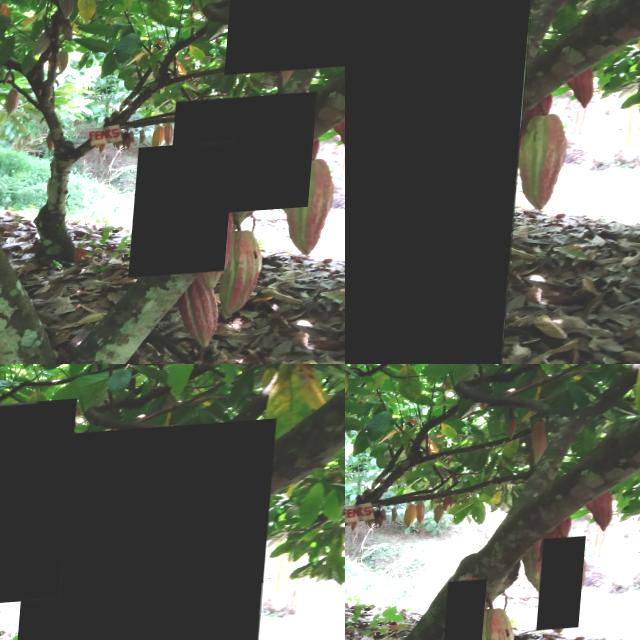Monilia: (345, 0, 544, 364), (174, 99, 322, 222)
Sana: (15, 426, 280, 640), (0, 403, 80, 613), (136, 146, 241, 282), (229, 0, 345, 80), (544, 544, 592, 637), (449, 585, 493, 640), (523, 431, 554, 467), (485, 614, 523, 640), (601, 500, 621, 536), (408, 510, 424, 531), (437, 509, 450, 530), (420, 507, 431, 528)
